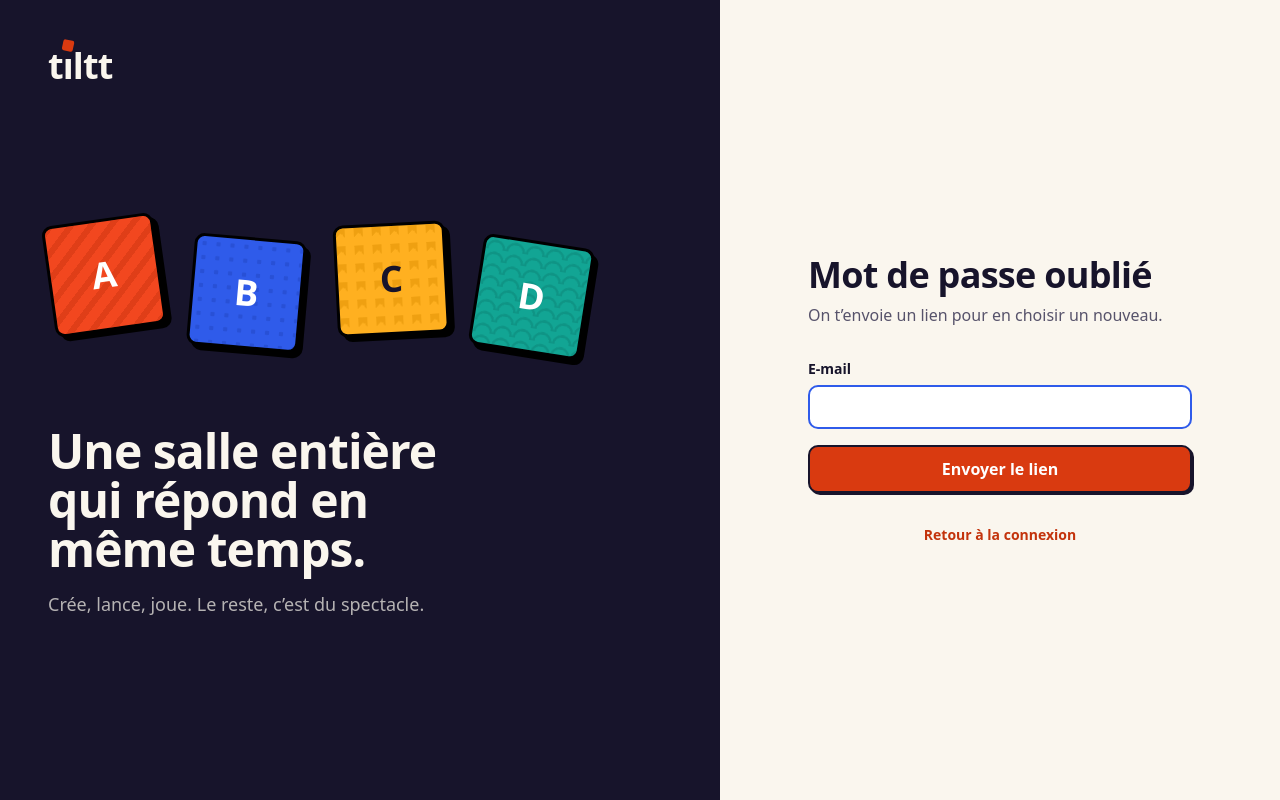
Test: /auth/forgot rate limits › names the hourly cap of the project when that is the limit
The image size is (1280, 800).
Type "lea@example.fr" into the field labelled "E-mail" at (1000, 407), box [808, 385, 1192, 429]
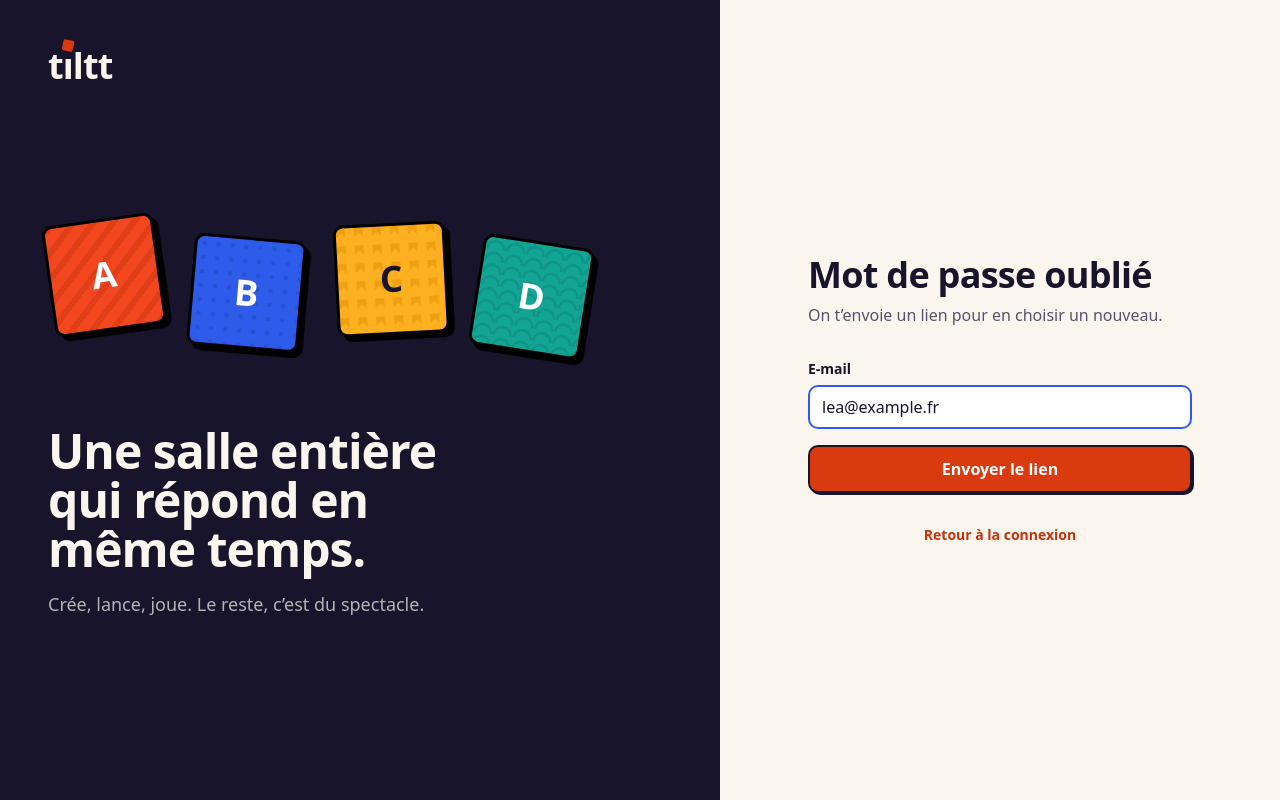
Click the button "Envoyer le lien" at (1000, 469), box [808, 445, 1192, 493]
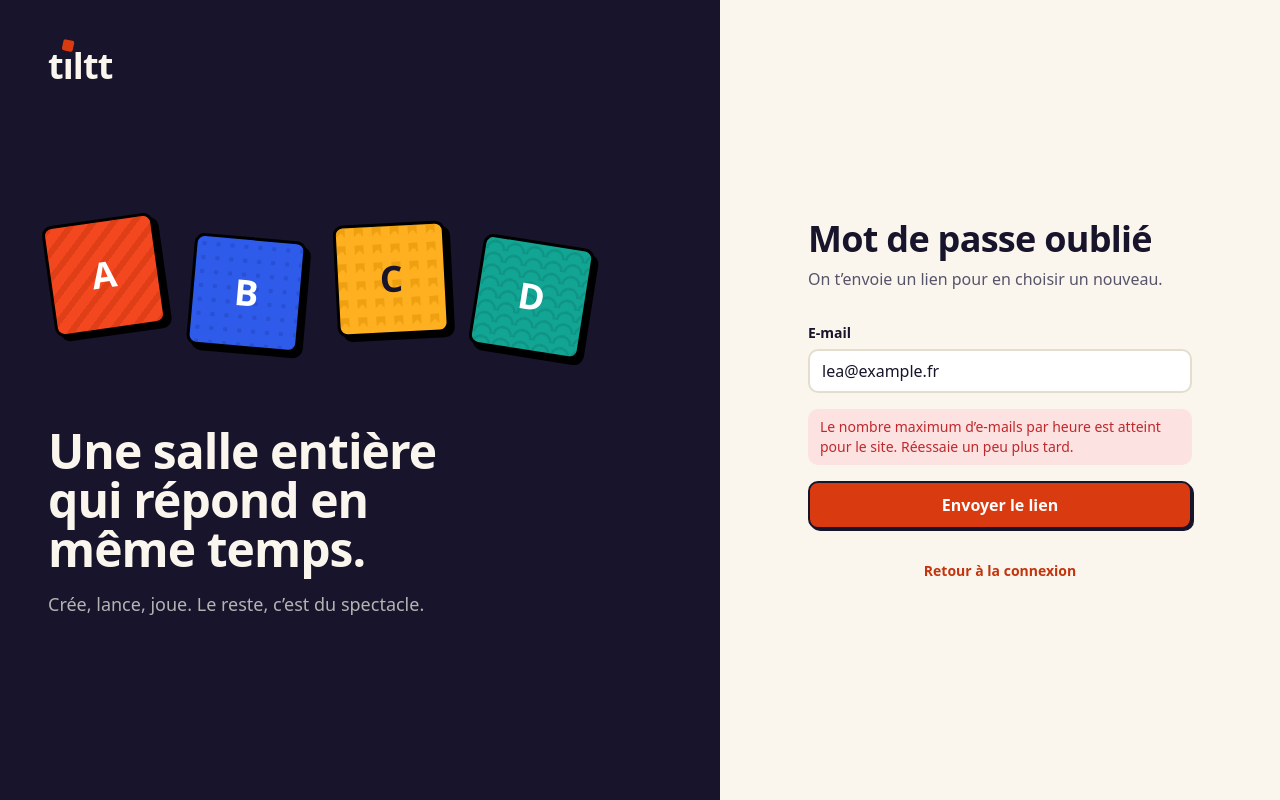
Expected: the button "Envoyer le lien" is enabled, [808, 481, 1192, 529]
Result: the text "nombre maximum d’e-mails par heure est atteint" is shown at [820, 417, 1161, 456]
